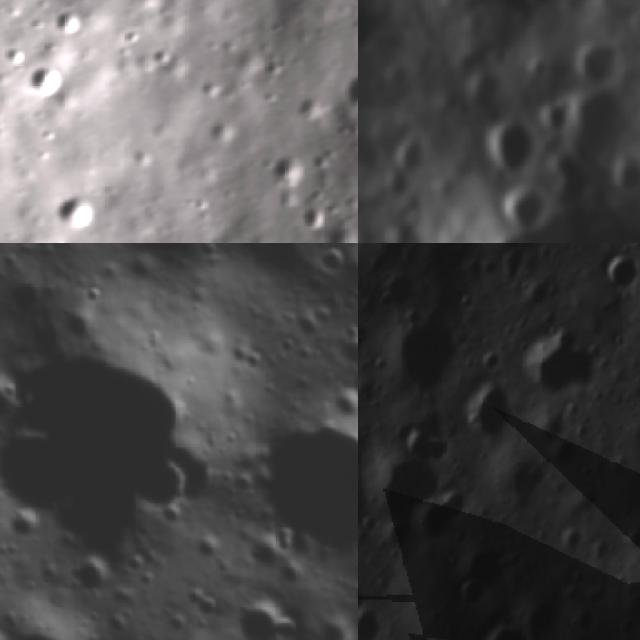crater: (0, 296, 233, 593), (214, 375, 358, 608), (72, 243, 272, 307), (553, 73, 640, 169), (386, 310, 474, 394), (370, 456, 450, 538), (214, 581, 316, 640), (0, 597, 134, 640), (529, 327, 601, 403), (485, 109, 554, 182), (569, 25, 636, 97), (459, 381, 524, 452), (367, 262, 426, 317), (498, 180, 552, 239), (389, 130, 448, 184), (404, 426, 469, 472), (55, 183, 106, 236), (592, 247, 639, 300), (447, 568, 498, 616), (329, 320, 358, 385), (265, 149, 305, 193), (48, 3, 92, 41), (358, 600, 397, 640), (26, 62, 63, 102), (470, 621, 543, 640), (358, 462, 373, 545), (0, 41, 29, 74), (554, 0, 619, 14), (358, 317, 375, 368), (341, 68, 358, 112)
